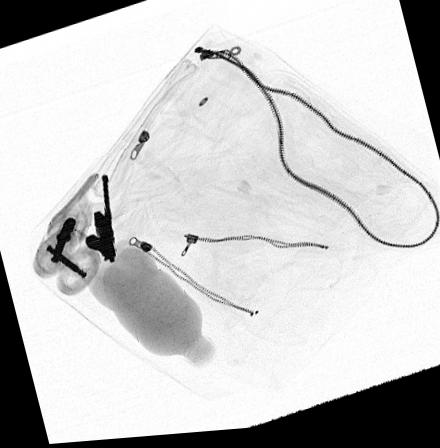Gun: (85, 173, 116, 266)
